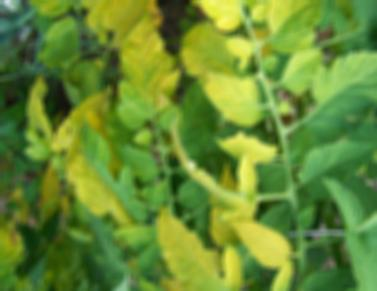Tomato leaf yellow virus: (112, 12, 181, 124), (66, 117, 134, 230), (156, 213, 236, 291), (197, 54, 263, 134), (313, 35, 377, 111), (230, 209, 290, 277)
